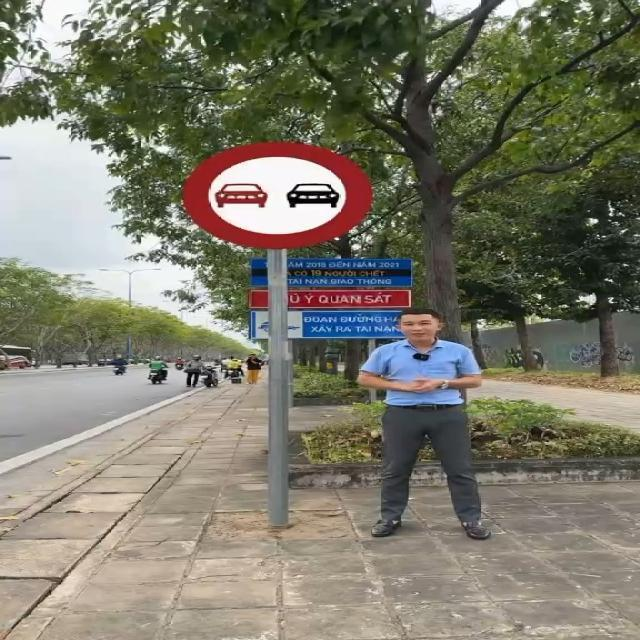125-cam-vuot: (175, 142, 365, 246)
